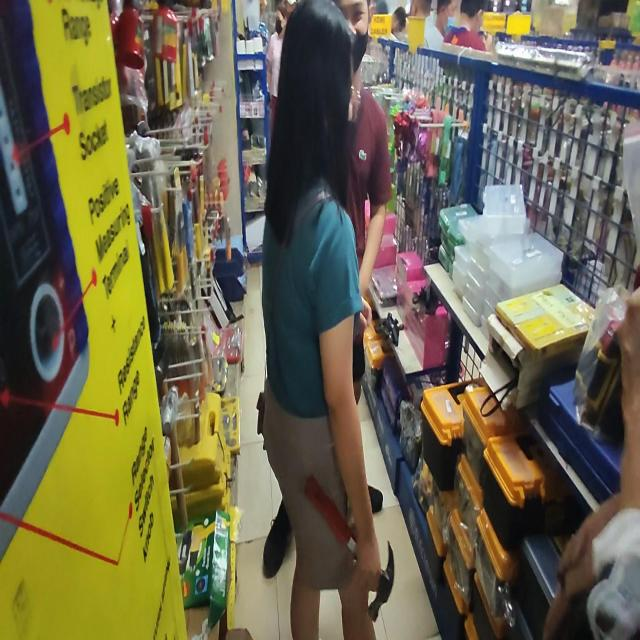hammer: (305, 474, 395, 622)
